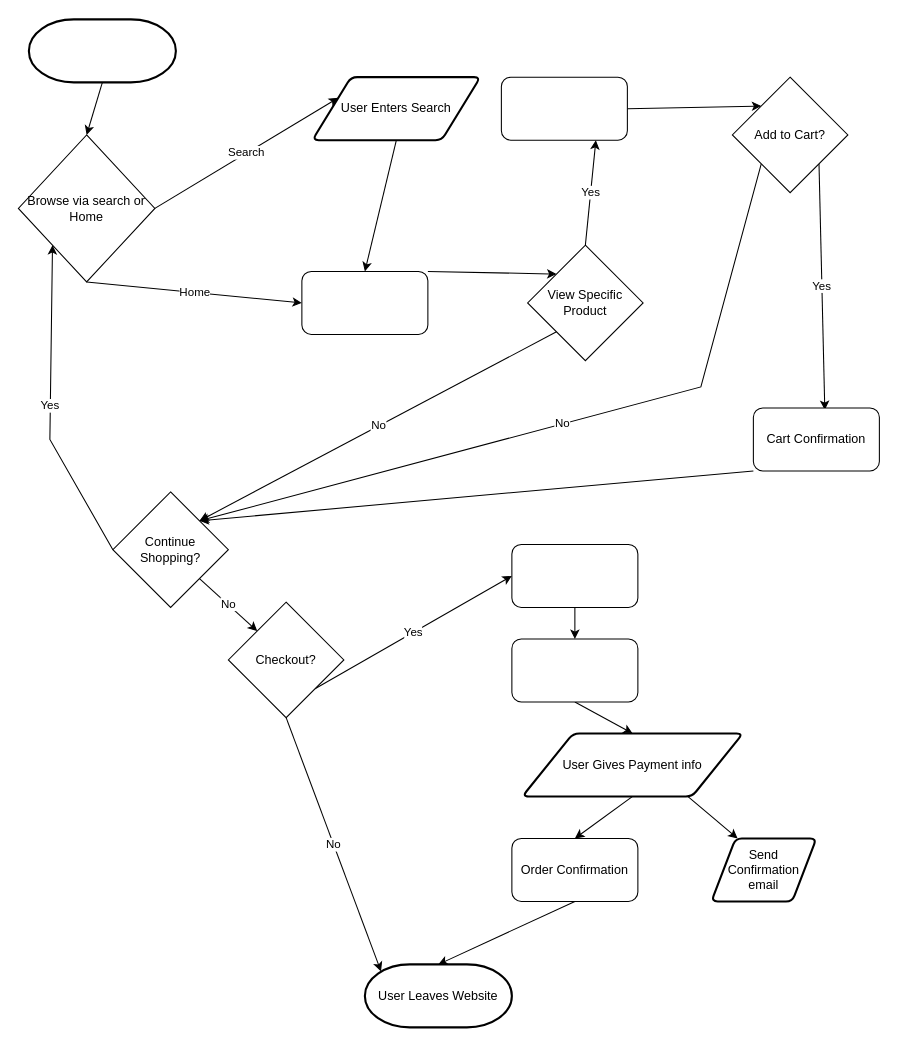
Image size: 898x1046. Some labels were removed from this diagram. Each missing label, with the centre of its shape:
"Browse Products" goes at (364,302).
"Payment Page" goes at (574,670).
"Product Page" goes at (563,108).
"User Views Website" goes at (101,50).
"View Cart" goes at (574,575).
